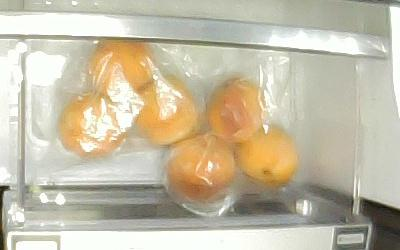peach_vinyl: (57, 90, 130, 158), (164, 131, 236, 199), (130, 74, 199, 144), (85, 39, 158, 98), (205, 76, 268, 143), (232, 123, 297, 184)
